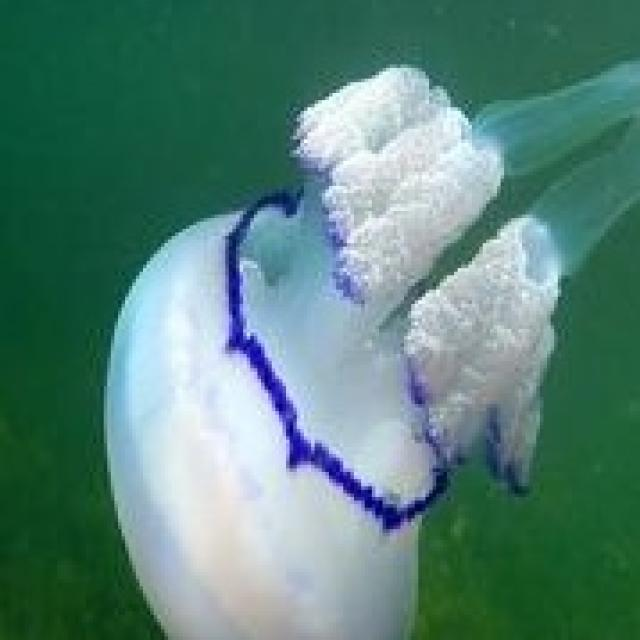Box-jellyfish: (100, 50, 637, 636)
